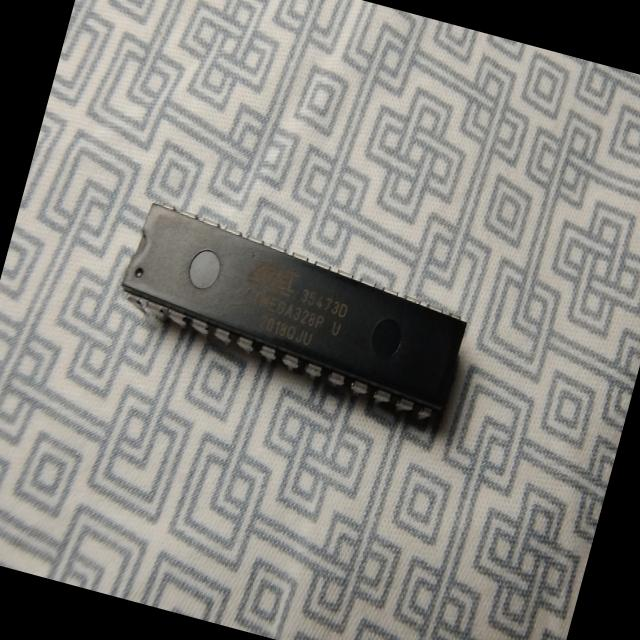atmega: (103, 195, 480, 432)
